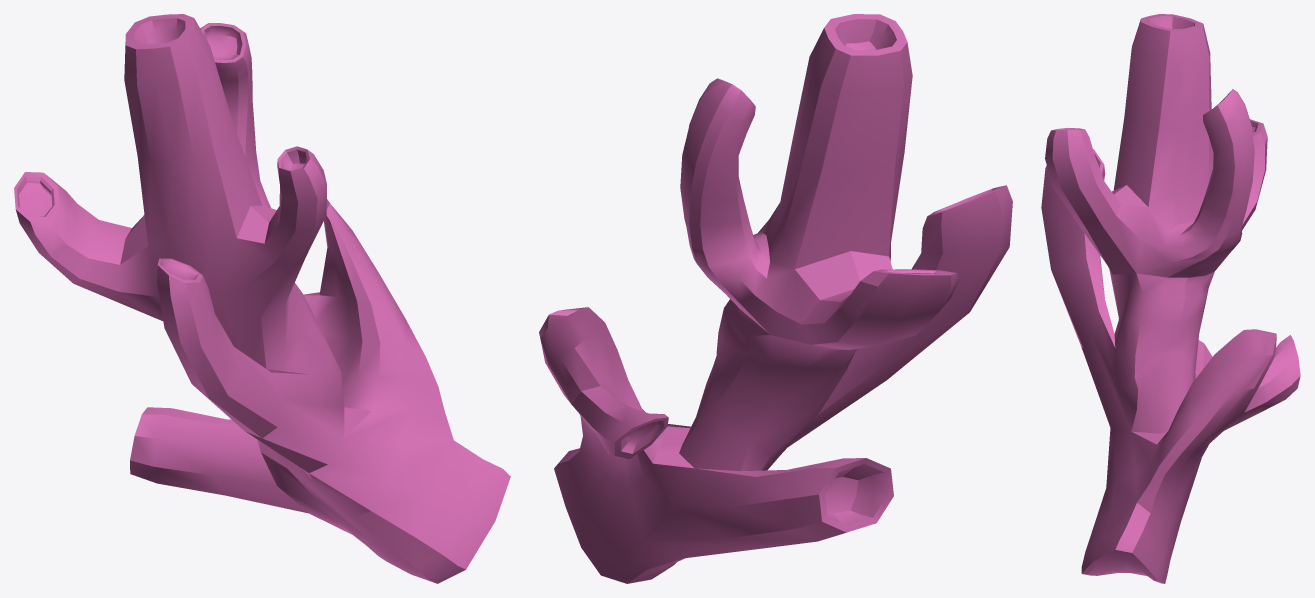
Rendered from coral right.fbx.
3 views of the same model, side by side, from view 1: azimuth 30°, elevation 25°; view 2: azimuth 150°, elevation 25°; view 3: azimuth 270°, elevation 25° (orthographic). The views are drawn at different scales.
Parts seen in each view (by area): view 1: coral 2.002; view 2: coral 2.002; view 3: coral 2.002.
Part boxes in pixels (x1,y1,x2,y2): coral 2.002: (14,14,510,583); coral 2.002: (539,14,1012,583); coral 2.002: (1041,14,1300,583).
Bounding box in the file's own units: 499 × 643 × 323.
